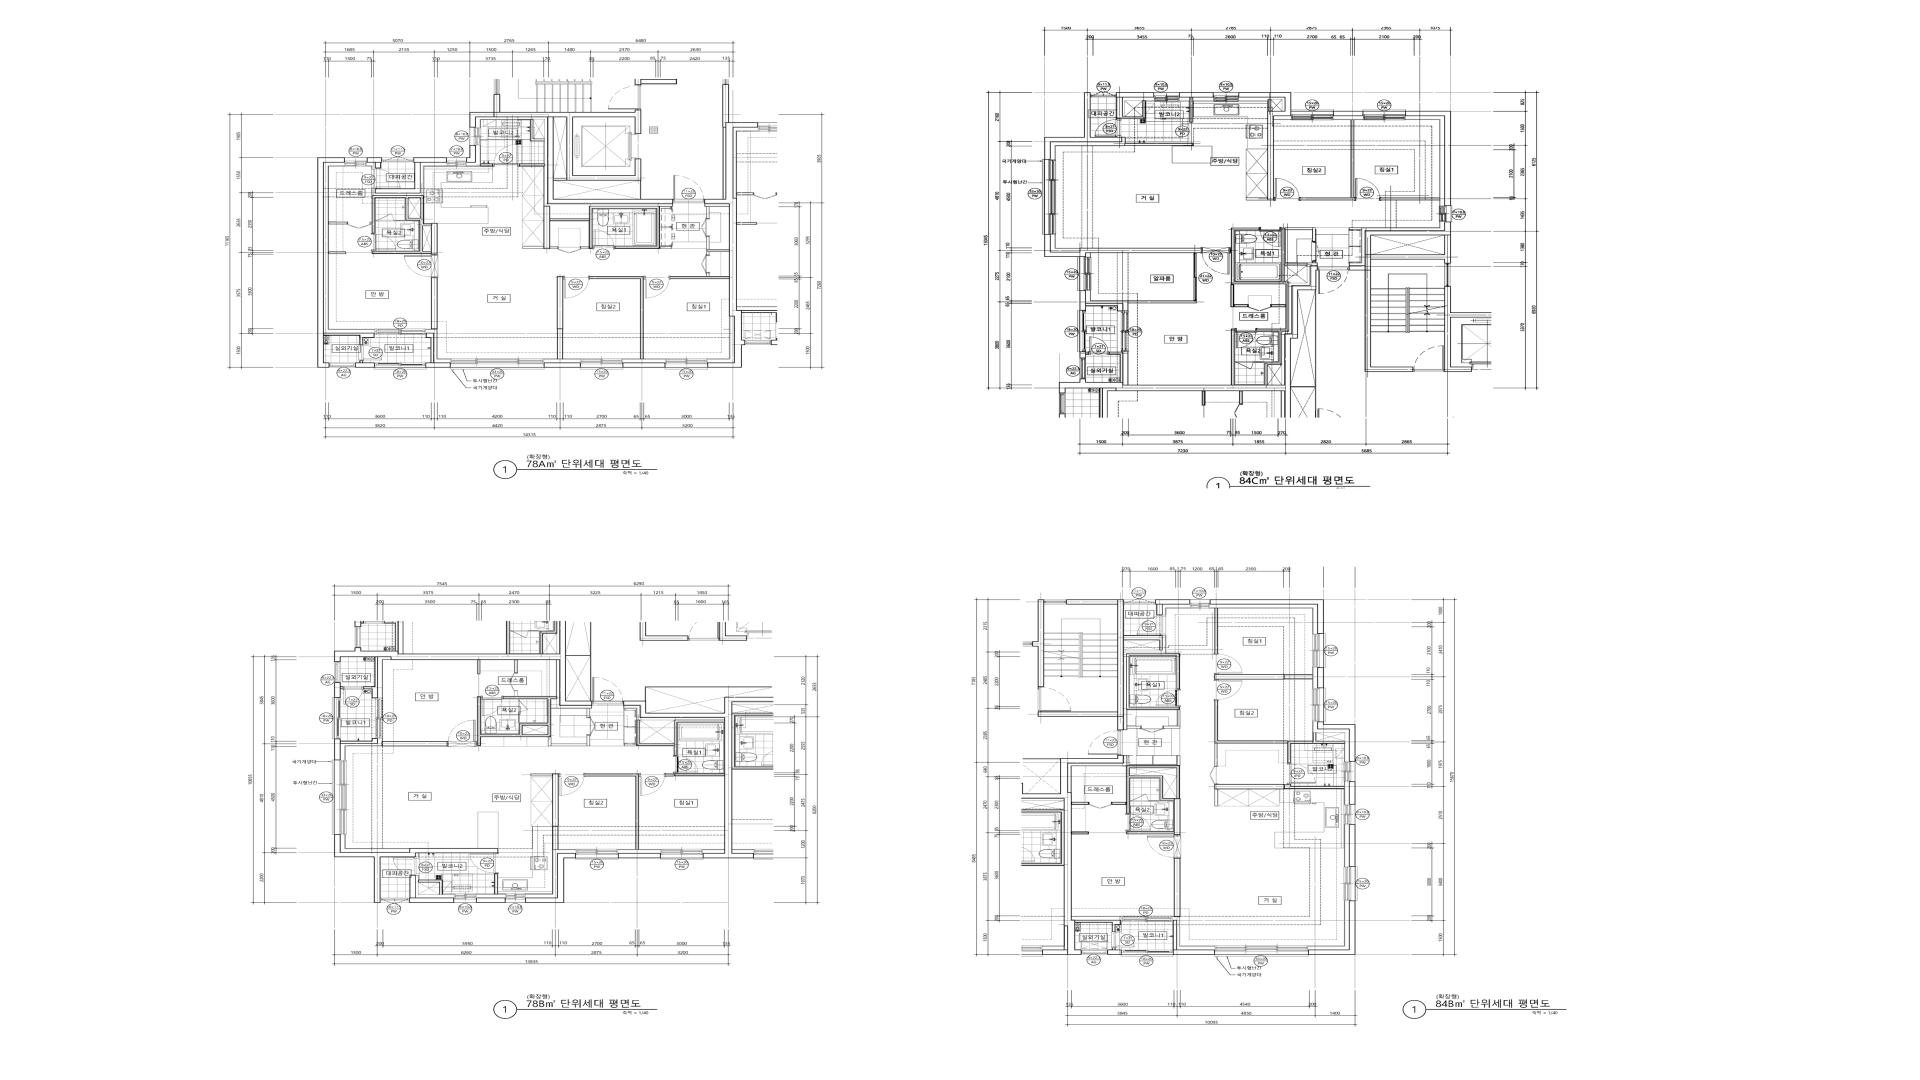door: (1317, 266, 1349, 294), (608, 85, 641, 110), (1088, 730, 1121, 755), (1038, 687, 1071, 712), (404, 254, 438, 278), (673, 175, 704, 201), (1413, 346, 1444, 372), (592, 677, 623, 703), (447, 720, 477, 746), (1201, 248, 1231, 274), (1147, 835, 1180, 858), (371, 168, 400, 189), (643, 276, 670, 298), (558, 774, 585, 796), (1288, 763, 1316, 784), (470, 853, 498, 874), (1137, 615, 1166, 635), (563, 276, 589, 298), (493, 144, 519, 166), (639, 774, 665, 796), (1355, 178, 1381, 200), (1274, 178, 1300, 200), (1215, 679, 1242, 700), (1214, 654, 1242, 674), (393, 857, 419, 875), (1095, 119, 1121, 137), (1126, 814, 1151, 832), (592, 230, 615, 249), (1156, 689, 1180, 707), (674, 756, 698, 774), (481, 697, 503, 716), (1235, 329, 1257, 348), (1260, 228, 1282, 247), (372, 234, 396, 251), (1088, 337, 1109, 355), (359, 345, 382, 361), (1112, 932, 1135, 948), (343, 687, 363, 704), (1193, 253, 1197, 301), (1312, 241, 1320, 263), (509, 673, 518, 691), (347, 222, 370, 229), (1248, 304, 1271, 311), (1090, 91, 1116, 97), (558, 246, 580, 253), (1089, 802, 1111, 809), (1141, 726, 1163, 733), (701, 219, 709, 237), (701, 255, 709, 273), (1210, 766, 1218, 784), (1130, 794, 1148, 802), (587, 717, 595, 735), (518, 699, 528, 712), (376, 214, 394, 221), (1235, 362, 1253, 369)
wall: (1059, 266, 1317, 418), (470, 94, 673, 204), (334, 621, 592, 706), (670, 84, 742, 368), (476, 117, 673, 219), (623, 697, 732, 858), (1038, 599, 1163, 730), (1349, 222, 1451, 372), (1231, 228, 1317, 385), (1060, 755, 1124, 955), (317, 157, 375, 368), (334, 834, 498, 903), (324, 163, 374, 333), (1215, 700, 1345, 763), (1239, 92, 1291, 200), (1044, 92, 1125, 159), (543, 206, 660, 249), (1111, 766, 1180, 835), (589, 276, 643, 359), (1300, 120, 1355, 200), (1406, 111, 1451, 206), (1444, 286, 1492, 372), (585, 774, 639, 849), (477, 696, 557, 746), (1124, 635, 1166, 730), (1210, 599, 1324, 634), (372, 195, 437, 254), (1044, 235, 1201, 257), (1210, 604, 1317, 634), (1126, 653, 1180, 710), (375, 157, 447, 193), (525, 853, 576, 903), (1309, 901, 1356, 955), (371, 163, 447, 196), (525, 849, 576, 898), (1291, 290, 1316, 387), (551, 660, 592, 717), (1068, 755, 1127, 793), (1309, 901, 1349, 950), (1317, 722, 1356, 762), (1173, 920, 1215, 955), (1371, 235, 1444, 255), (1313, 722, 1349, 762), (623, 706, 725, 720), (1172, 917, 1215, 950), (409, 875, 454, 903), (340, 834, 409, 852), (708, 316, 734, 363), (566, 655, 591, 701), (1032, 599, 1044, 687), (1116, 92, 1154, 119), (1080, 291, 1128, 311), (334, 739, 378, 760), (340, 739, 383, 760), (426, 333, 451, 368), (416, 875, 454, 898), (426, 329, 451, 363), (1215, 784, 1345, 789), (1123, 97, 1154, 116), (1155, 599, 1190, 615), (378, 657, 391, 698), (557, 276, 563, 359), (1214, 674, 1313, 679), (548, 735, 590, 746), (552, 774, 558, 849), (706, 236, 729, 255), (1109, 352, 1123, 382), (1231, 284, 1248, 307), (418, 880, 443, 895), (704, 204, 729, 219), (431, 277, 438, 329), (1174, 858, 1180, 917), (530, 119, 545, 141), (382, 741, 447, 746), (1163, 710, 1180, 729), (466, 145, 481, 166), (1179, 92, 1214, 101), (1163, 604, 1190, 615), (1334, 111, 1363, 120), (1349, 824, 1355, 867), (635, 79, 677, 85), (408, 198, 420, 218), (1268, 97, 1285, 111), (1231, 329, 1235, 385), (1344, 824, 1349, 867), (618, 853, 661, 858), (623, 363, 665, 368), (1128, 301, 1197, 304), (1125, 143, 1193, 146), (466, 145, 476, 163), (544, 363, 580, 368), (618, 849, 661, 853), (623, 359, 665, 363), (367, 157, 382, 168), (1349, 782, 1356, 805), (1072, 917, 1121, 920), (1317, 667, 1324, 688), (476, 898, 505, 903), (544, 359, 580, 363), (334, 682, 343, 698), (1215, 608, 1218, 654), (355, 361, 374, 368), (1381, 198, 1440, 200), (476, 894, 505, 898), (1344, 782, 1349, 805), (1108, 948, 1121, 955), (703, 849, 724, 853), (1313, 667, 1317, 688), (494, 874, 498, 894), (1190, 97, 1193, 123), (519, 164, 545, 167), (1214, 789, 1218, 806), (522, 246, 543, 249), (514, 660, 518, 673), (1215, 743, 1217, 766), (1246, 198, 1267, 200), (477, 660, 480, 674), (531, 774, 552, 776), (367, 163, 375, 168), (553, 178, 566, 181), (1080, 352, 1086, 358), (1177, 756, 1180, 766), (580, 246, 589, 249), (624, 744, 637, 746), (480, 164, 493, 166), (1349, 228, 1361, 230), (550, 246, 558, 249), (660, 247, 671, 249), (518, 712, 520, 723), (640, 181, 641, 199), (514, 691, 517, 697), (416, 853, 419, 857), (1253, 362, 1265, 363), (1148, 801, 1159, 802), (394, 220, 405, 221), (706, 273, 709, 276), (1086, 352, 1088, 355), (370, 222, 372, 224)
window: (1042, 159, 1056, 235), (332, 760, 346, 835), (1215, 946, 1309, 957), (450, 359, 544, 369), (1077, 257, 1091, 291), (1291, 109, 1334, 120), (1363, 109, 1406, 120), (665, 359, 708, 370), (580, 359, 623, 370), (374, 329, 426, 338), (576, 849, 618, 860), (661, 849, 703, 860), (1313, 688, 1326, 722), (1344, 867, 1357, 901), (1313, 634, 1326, 667), (1077, 310, 1086, 352), (1121, 950, 1173, 957), (374, 363, 426, 370), (332, 698, 340, 739), (1121, 311, 1129, 352), (376, 698, 383, 739), (1121, 917, 1172, 922), (1214, 92, 1239, 102), (1344, 762, 1356, 782), (1154, 92, 1179, 101), (382, 156, 413, 163), (1344, 805, 1355, 824), (1439, 206, 1452, 222), (345, 157, 367, 166), (454, 894, 476, 903), (470, 128, 481, 145), (505, 894, 525, 903), (1190, 599, 1210, 608), (380, 898, 409, 904), (1124, 599, 1155, 604), (447, 158, 466, 166), (1445, 263, 1451, 286), (329, 363, 355, 368), (1081, 950, 1107, 955), (1080, 358, 1086, 379), (334, 662, 340, 682), (1044, 599, 1066, 604)
